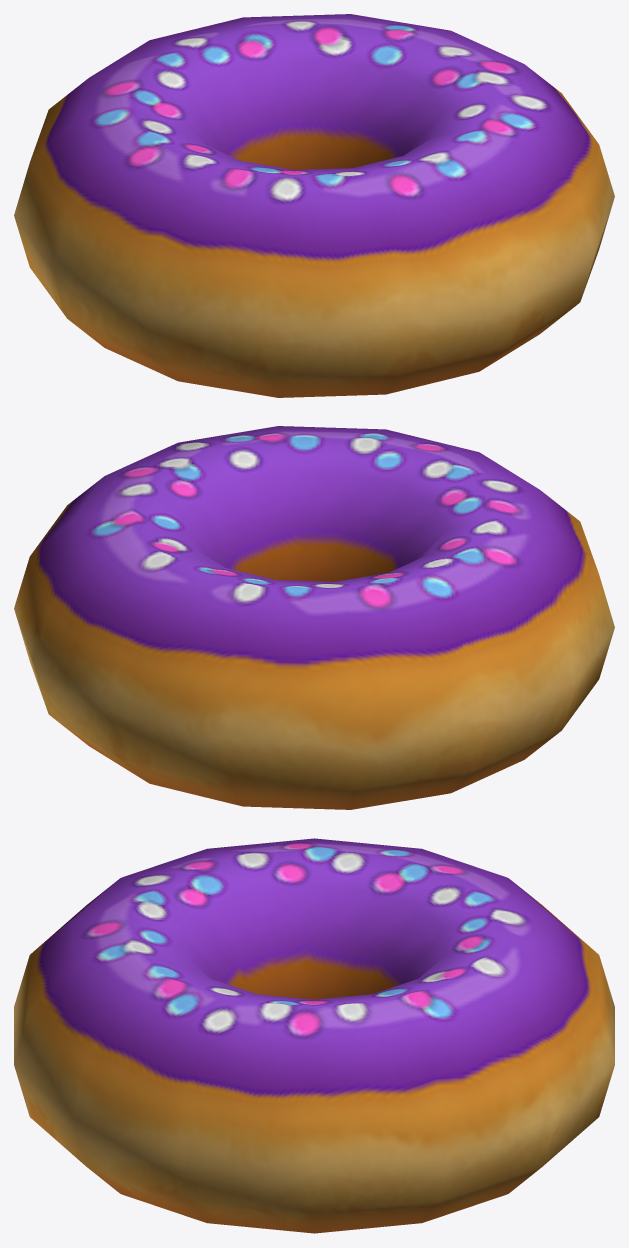
The model's file is 007-Donut_09.FBX.
3 views of the same model, one above another, from view 1: azimuth 30°, elevation 25°; view 2: azimuth 150°, elevation 25°; view 3: azimuth 270°, elevation 25° (orthographic). The views are drawn at different scales.
Parts seen in each view (by area): view 1: 007-Donut_09; view 2: 007-Donut_09; view 3: 007-Donut_09.
Boxes of the visible parts, <box> form: 007-Donut_09: <box>14,14,614,397</box>; 007-Donut_09: <box>14,426,614,809</box>; 007-Donut_09: <box>14,838,614,1233</box>.
Bounding box in the file's own units: 15.8 × 6.06 × 15.4.
